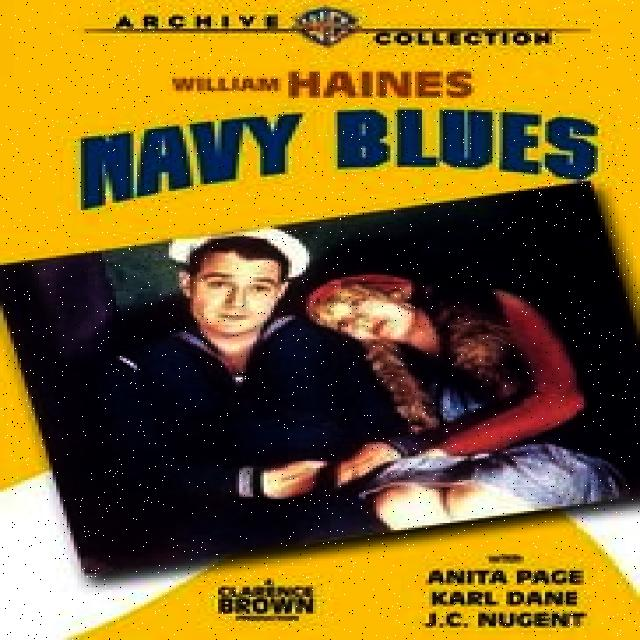movie-judul: (58, 97, 604, 209)
picture: (41, 234, 611, 508)
